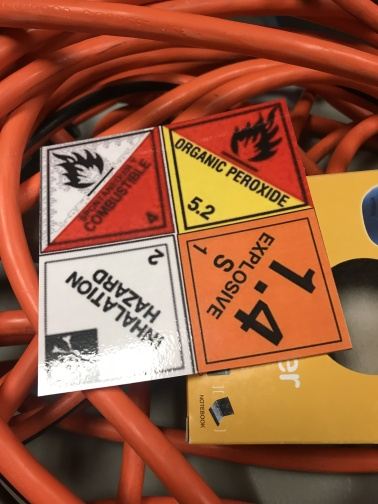Explosive: (176, 209, 354, 373)
InhalationHazard: (37, 237, 195, 394)
OrganicPeroxide: (161, 99, 316, 234)
SpontaneouslyCombustible: (38, 127, 176, 254)
